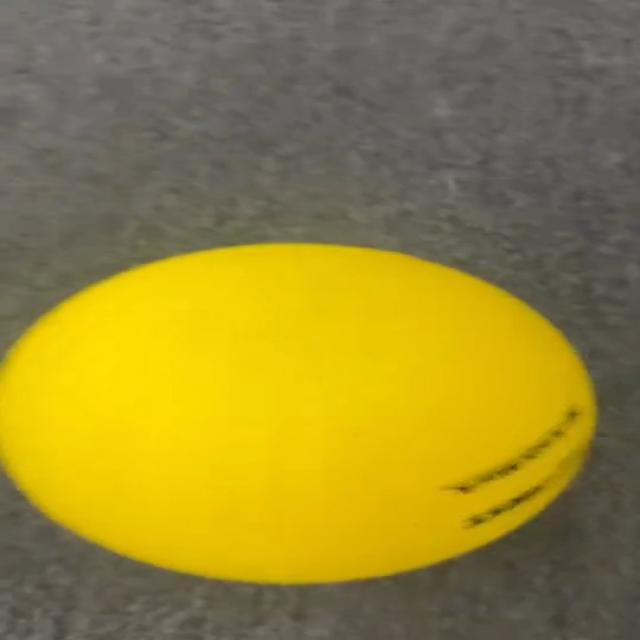Fuels: (2, 243, 596, 583)
